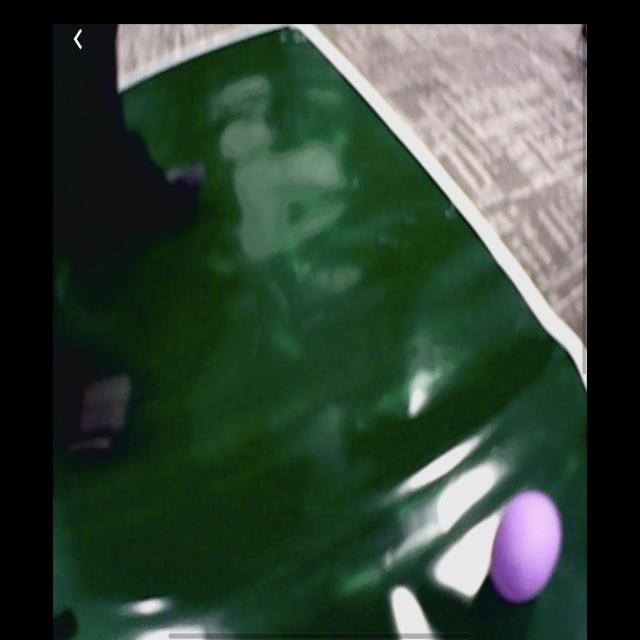ball: (491, 493, 566, 600)
